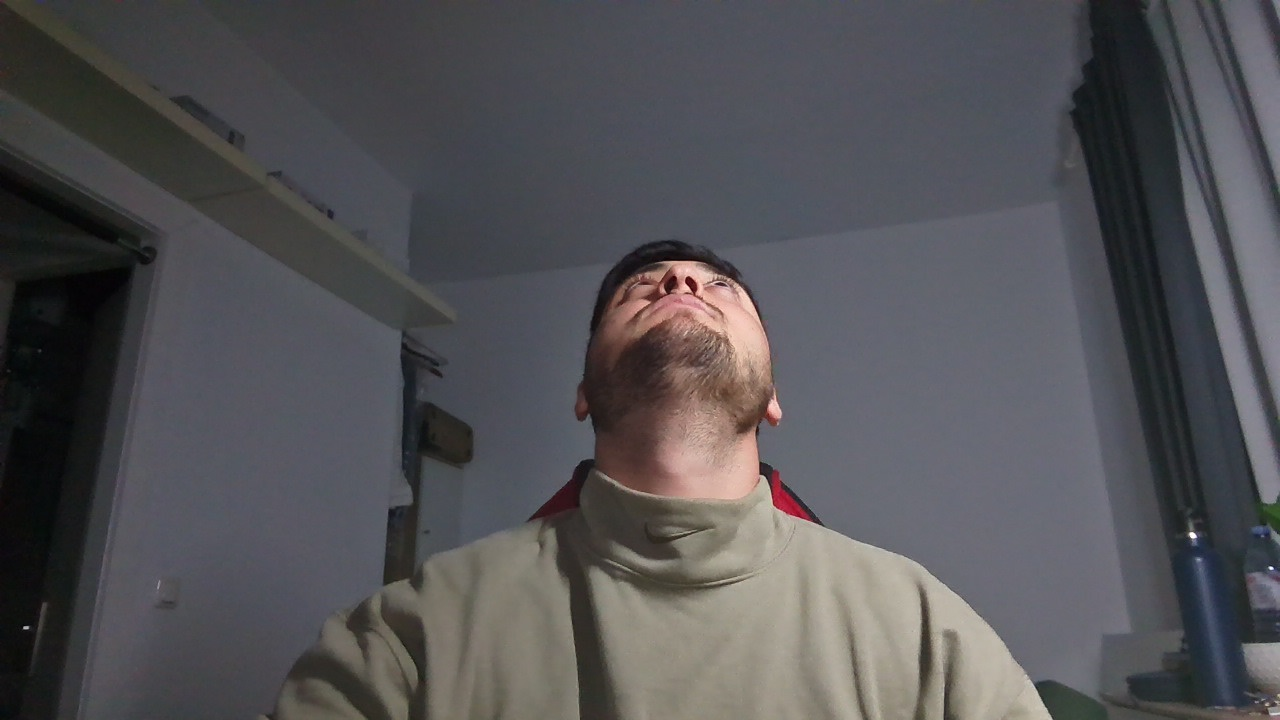Wasserflasche: (1133, 492, 1256, 714)
me: (537, 199, 858, 574)
